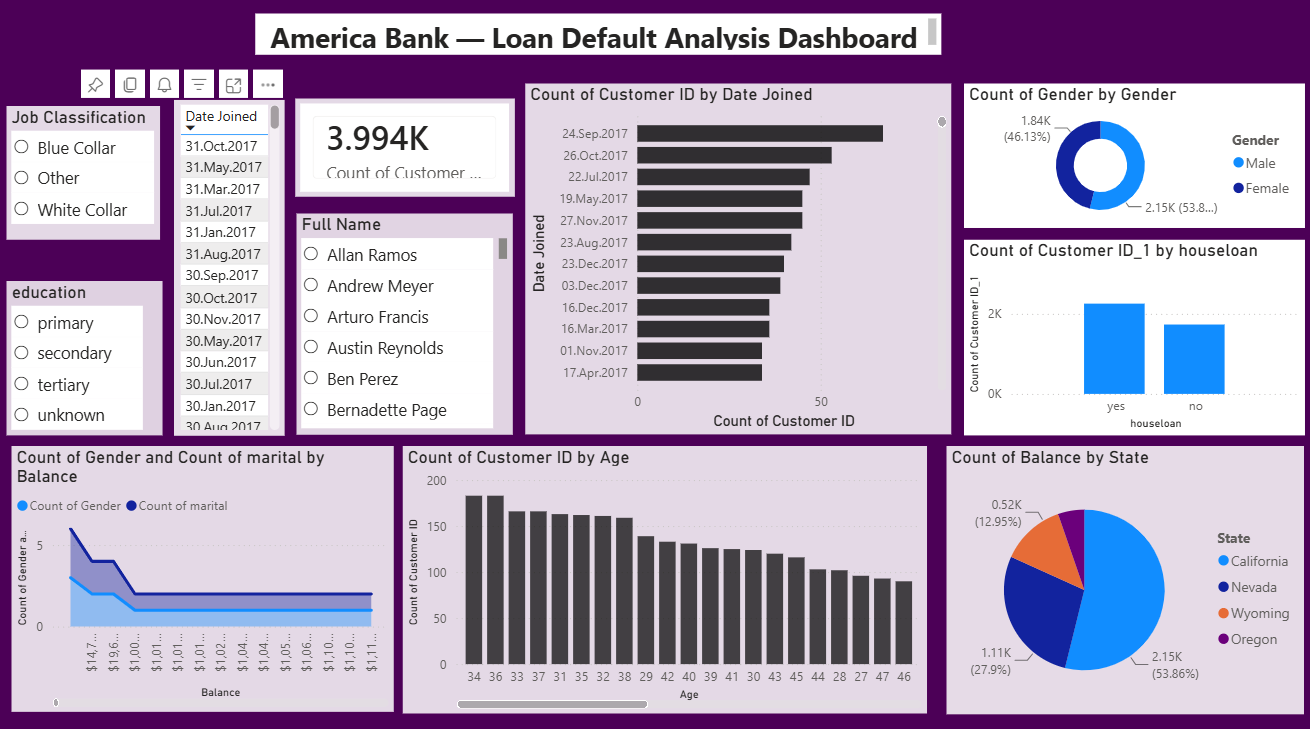

This screenshot's page, from the dashboard's own definition file:
{"tool":"powerbi","page":{"name":"Page 1","canvas":[1280,720],"ordinal":0},"visuals":[{"type":"columnChart","fields":{"Category":["AmericaBank1 (1).Age"],"Y":["CountNonNull(AmericaBank1 (1).Customer ID)"]},"box":[396.6,436.4,507.7,259.3],"z":0},{"type":"stackedAreaChart","fields":{"Category":["AmericaBank1 (1).Balance"],"Y":["CountNonNull(AmericaBank1 (1).Gender)","CountNonNull(AmericaBank1 (1).marital)"]},"box":[16.5,436.4,370.5,258],"z":1000},{"type":"donutChart","fields":{"Y":["CountNonNull(AmericaBank1 (1).Gender)"],"Category":["AmericaBank1 (1).Gender"]},"box":[940,85.1,330.7,140],"z":2000},{"type":"textbox","box":[253.4,16.9,664.7,39.8],"z":3000},{"type":"listSlicer","fields":{"Values":["AmericaBank1 (1).Job Classification"]},"box":[11.9,107.1,148.7,129.4],"z":4000},{"type":"cardVisual","fields":{"Data":["Count(AmericaBank1 (1).Customer ID)"]},"box":[291.5,99.6,212.6,95.2],"z":5000},{"type":"clusteredColumnChart","fields":{"Y":["CountNonNull(AmericaBank1 (1).Customer ID_1)"],"Category":["AmericaBank1 (1).houseloan"]},"box":[940,236,330.7,189.4],"z":6000},{"type":"barChart","fields":{"Category":["AmericaBank1 (1).Date Joined"],"Y":["CountNonNull(AmericaBank1 (1).Customer ID)"]},"box":[514.6,85.1,413,340.3],"z":7000},{"type":"tableEx","fields":{"Values":["AmericaBank1 (1).Date Joined"]},"box":[174.3,100.2,107,325.2],"z":8000},{"type":"listSlicer","fields":{"Values":["AmericaBank1 (1).education"]},"box":[12.3,275.8,150.9,149.6],"z":9000},{"type":"listSlicer","fields":{"Values":["AmericaBank1 (1).Full Name"]},"box":[293.7,211.3,209.9,214.1],"z":10000},{"type":"pieChart","fields":{"Category":["AmericaBank1 (1).State"],"Y":["CountNonNull(AmericaBank1 (1).Balance)"]},"box":[923.4,435.7,346.5,260.2],"z":11000}]}

Visuals, with their boxes in screenshot pixels (x1, y1, x2, y2), scaled from the page's 1280x720 canvas onto the 1310x729 screenshot:
columnChart - AmericaBank1 (1).Age x CountNonNull(AmericaBank1 (1).Customer ID): left=406, top=442, right=925, bottom=704
stackedAreaChart - AmericaBank1 (1).Balance x CountNonNull(AmericaBank1 (1).Gender): left=17, top=442, right=396, bottom=703
donutChart - CountNonNull(AmericaBank1 (1).Gender) x AmericaBank1 (1).Gender: left=962, top=86, right=1300, bottom=228
textbox: left=259, top=17, right=940, bottom=57
listSlicer - AmericaBank1 (1).Job Classification: left=12, top=108, right=164, bottom=239
cardVisual - Count(AmericaBank1 (1).Customer ID): left=298, top=101, right=516, bottom=197
clusteredColumnChart - CountNonNull(AmericaBank1 (1).Customer ID_1) x AmericaBank1 (1).houseloan: left=962, top=239, right=1300, bottom=431
barChart - AmericaBank1 (1).Date Joined x CountNonNull(AmericaBank1 (1).Customer ID): left=527, top=86, right=949, bottom=431
tableEx - AmericaBank1 (1).Date Joined: left=178, top=101, right=288, bottom=431
listSlicer - AmericaBank1 (1).education: left=13, top=279, right=167, bottom=431
listSlicer - AmericaBank1 (1).Full Name: left=301, top=214, right=515, bottom=431
pieChart - AmericaBank1 (1).State x CountNonNull(AmericaBank1 (1).Balance): left=945, top=441, right=1300, bottom=705
